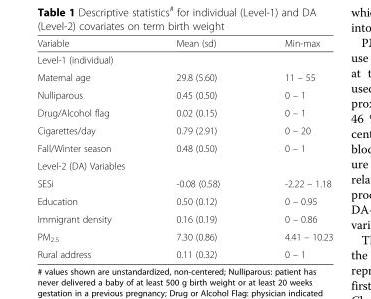table: (36, 37, 332, 259)
table column: (143, 37, 251, 259), (36, 37, 143, 259), (251, 37, 332, 259)
table column header: (36, 37, 332, 50)
table projected row header: (36, 50, 332, 68), (36, 156, 332, 174)
table row: (36, 50, 332, 68), (36, 85, 332, 103), (36, 103, 332, 121), (36, 138, 332, 156), (36, 156, 332, 174), (36, 174, 332, 192), (36, 209, 332, 227), (36, 227, 332, 245), (36, 68, 332, 85), (36, 121, 332, 138), (36, 192, 332, 209), (36, 245, 332, 259), (36, 37, 332, 50)
